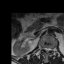CCS_normal: (46, 45, 48, 55)
LFS_normal: (51, 45, 53, 53)
LLS_normal: (48, 45, 51, 53)
RFS_stenosis: (41, 44, 44, 51)
RLS_normal: (44, 45, 46, 53)
